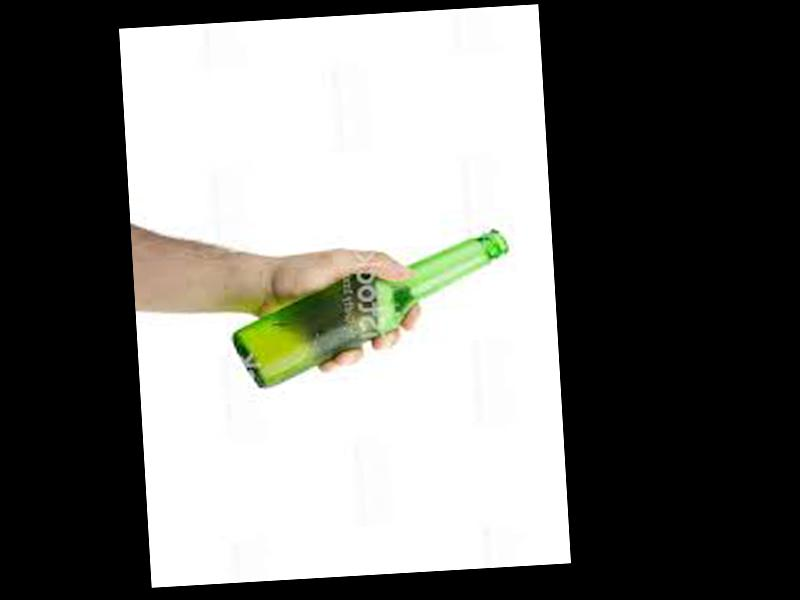Beer: (230, 227, 518, 390)
